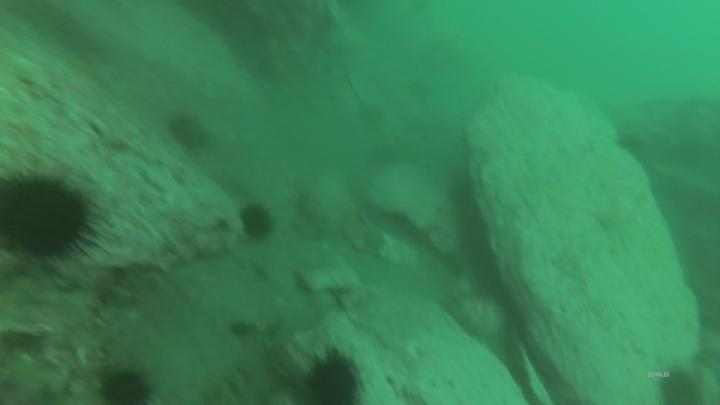echinus: (2, 168, 106, 273), (301, 350, 363, 405), (95, 366, 152, 405), (658, 364, 706, 405), (166, 111, 210, 153), (236, 201, 279, 243)
holothurian: (90, 261, 167, 344)
